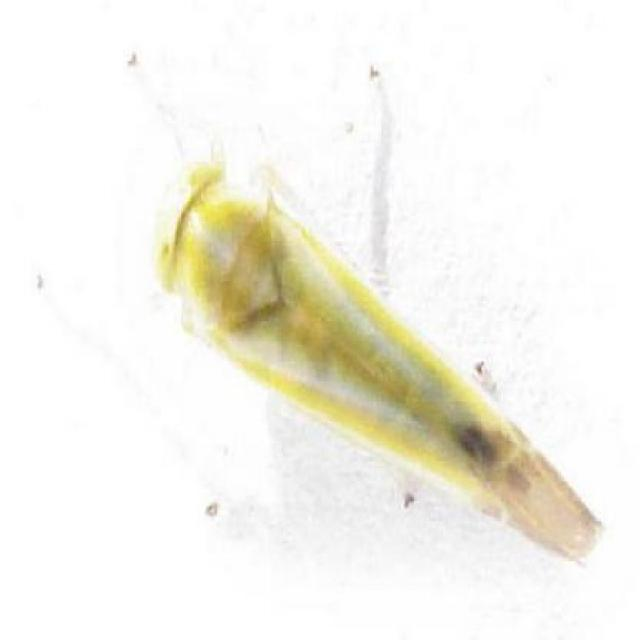green-leafhopper: (130, 143, 606, 558)
